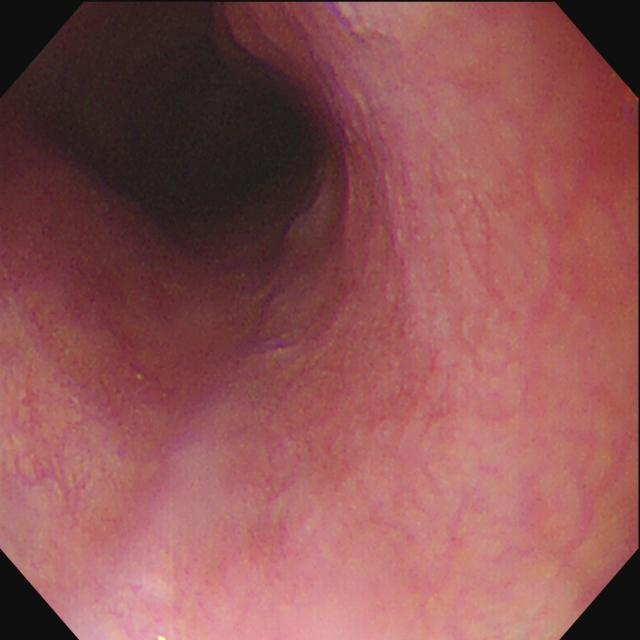E: (149, 67, 295, 228)
